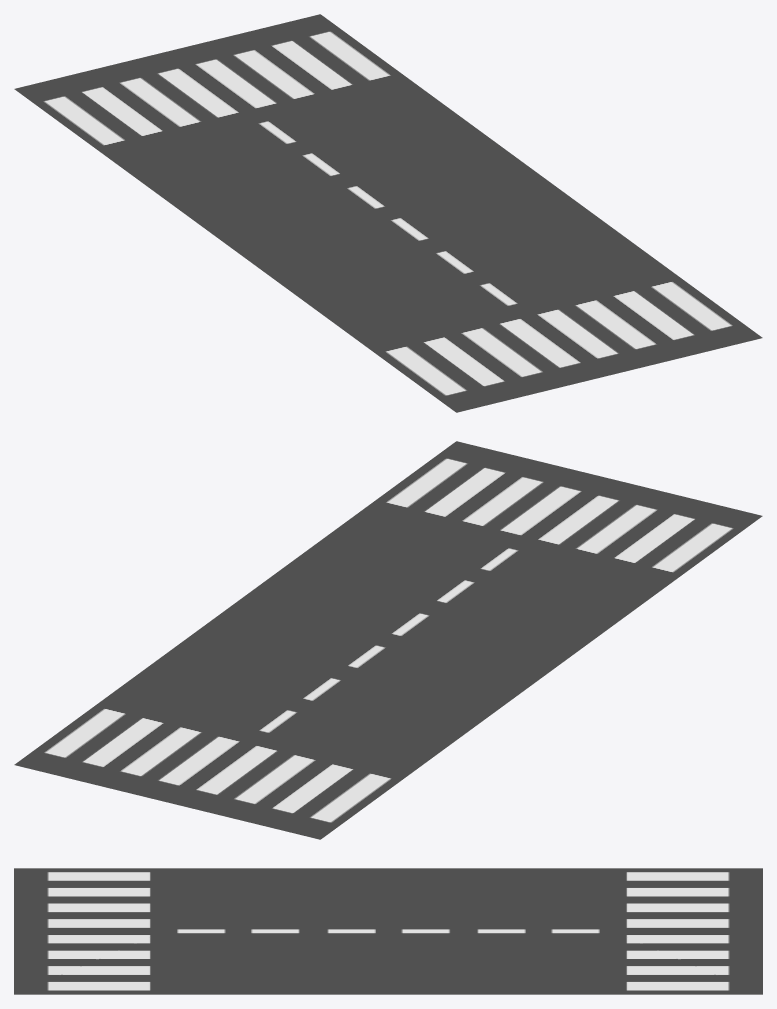
The model's file is Road_Line_02.FBX.
3 renders of one model, top to bottom at view 1: azimuth 30°, elevation 25°; view 2: azimuth 150°, elevation 25°; view 3: azimuth 270°, elevation 25°, orthographic. The views are drawn at different scales.
Visible parts, largest first — view 1: Road_Line_02; view 2: Road_Line_02; view 3: Road_Line_02.
Part boxes in pixels (x1,y1,x2,y2): Road_Line_02: (14, 14, 762, 412); Road_Line_02: (14, 441, 762, 839); Road_Line_02: (14, 868, 762, 994).
Size of the model in its own units: 8 by 1.97e-06 by 20.
